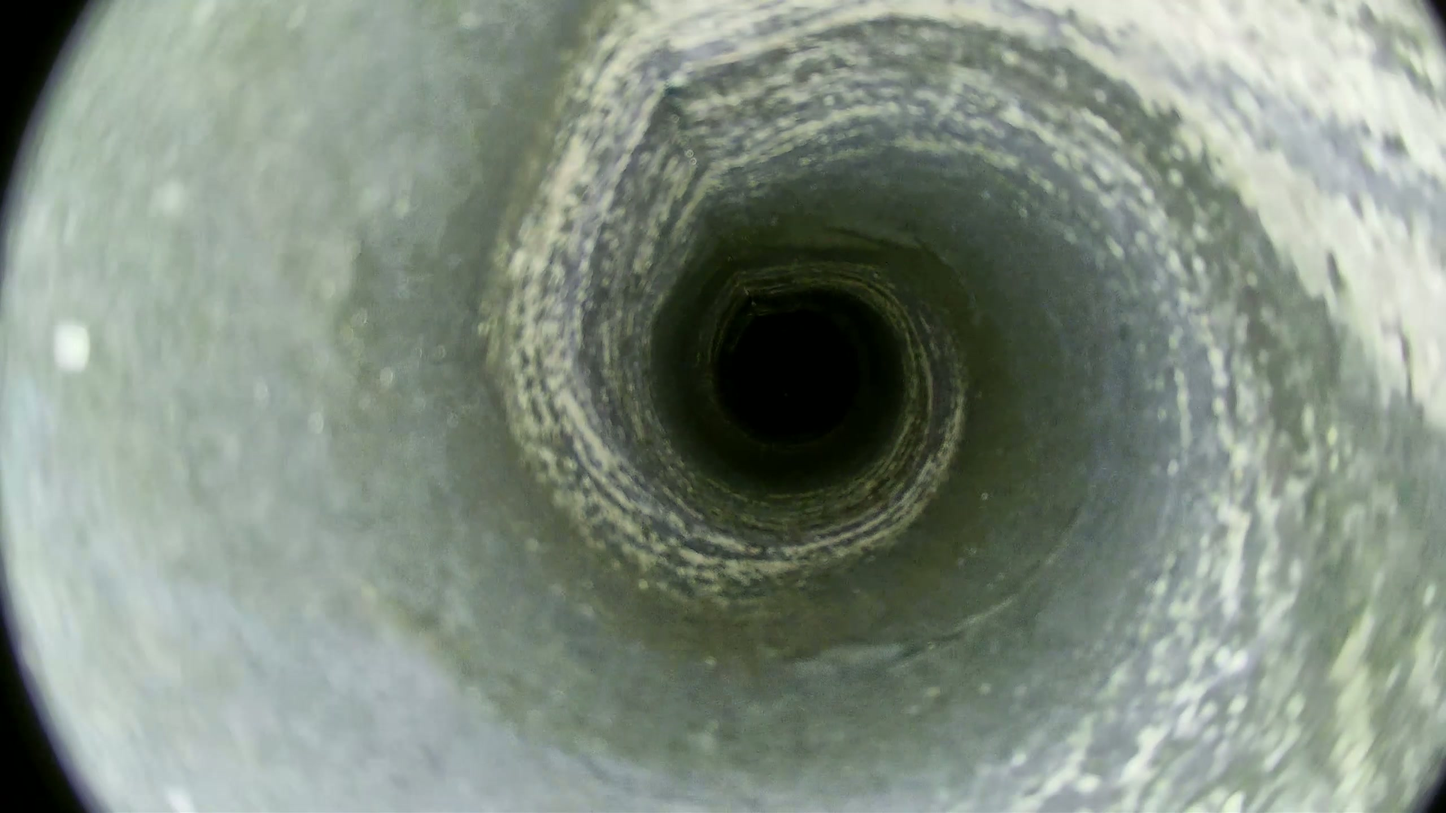hole: (727, 312, 859, 441)
